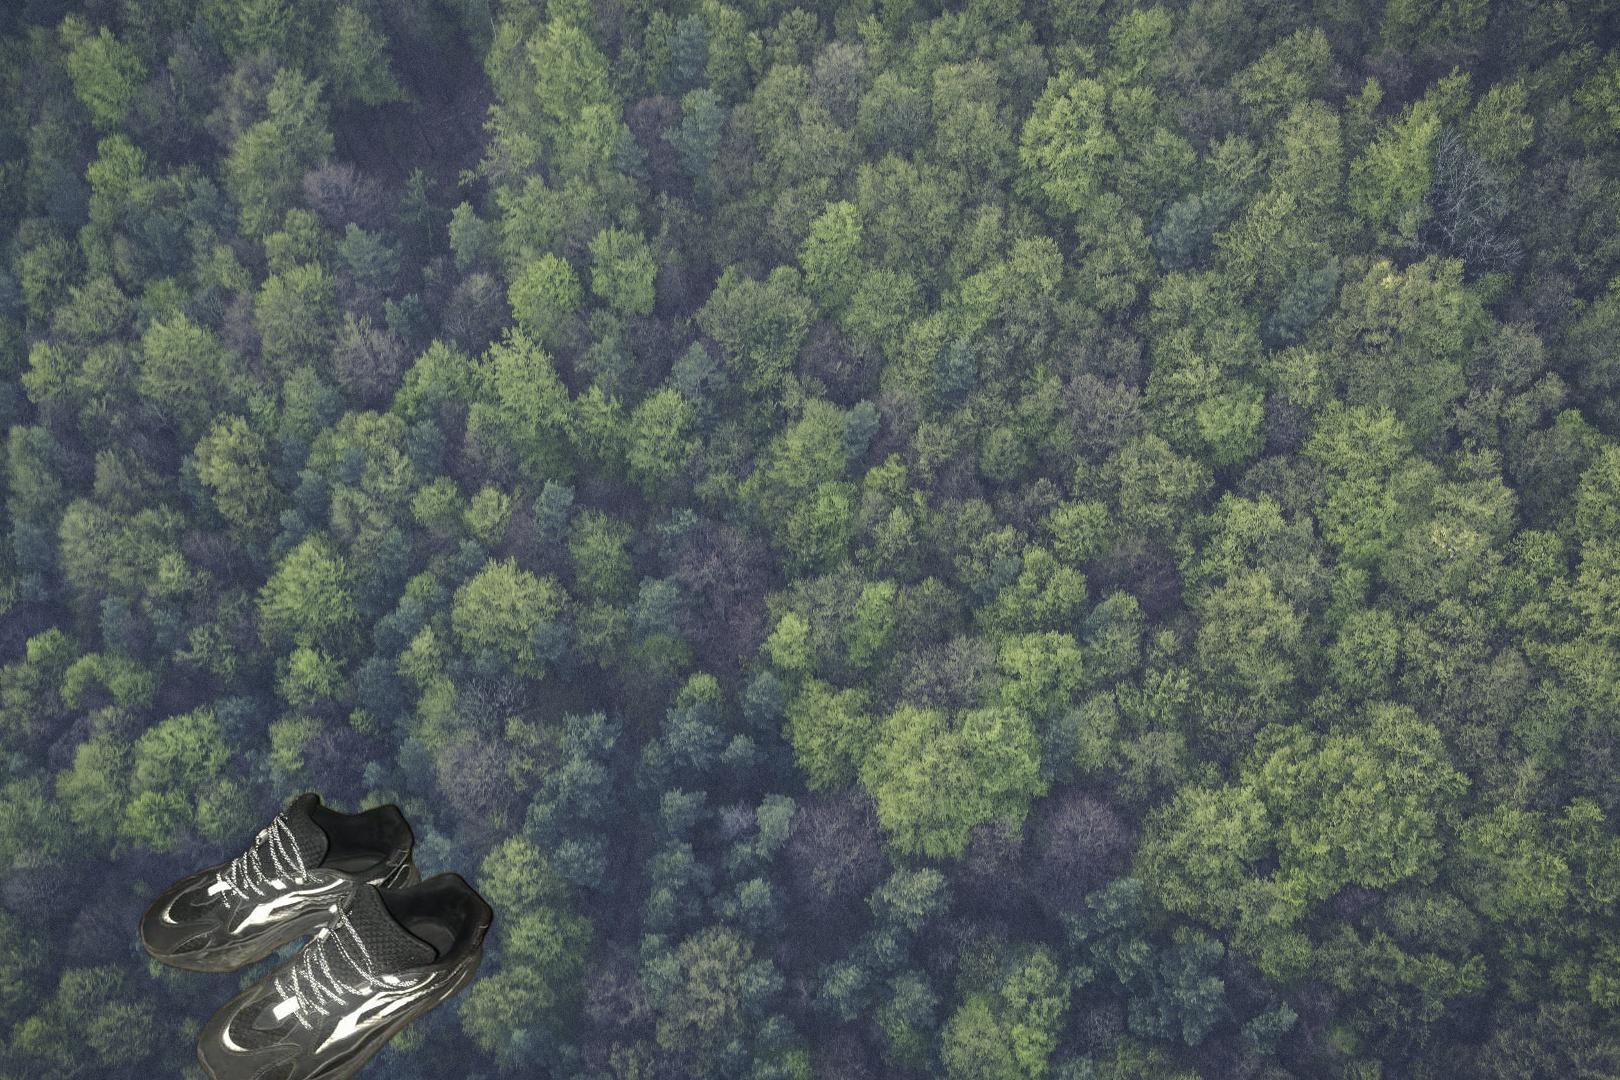shoes: (136, 790, 498, 1080)
